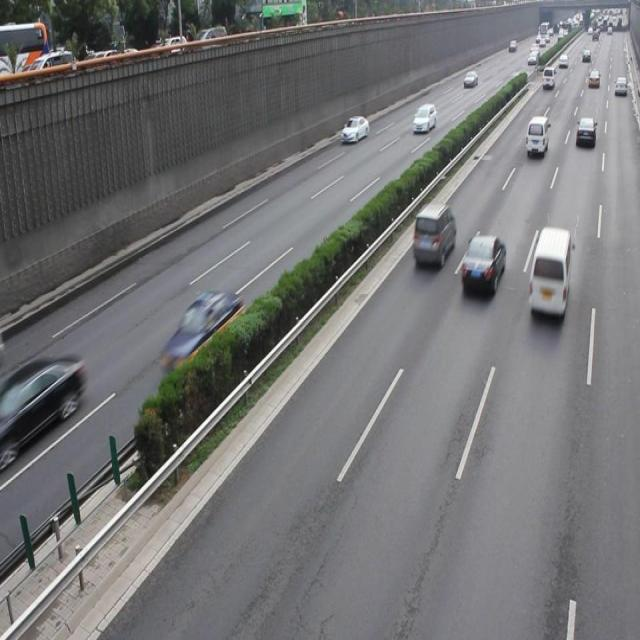car: (1, 353, 83, 458), (162, 290, 245, 374), (460, 234, 505, 295), (412, 202, 454, 266)
truck: (526, 226, 569, 318)
